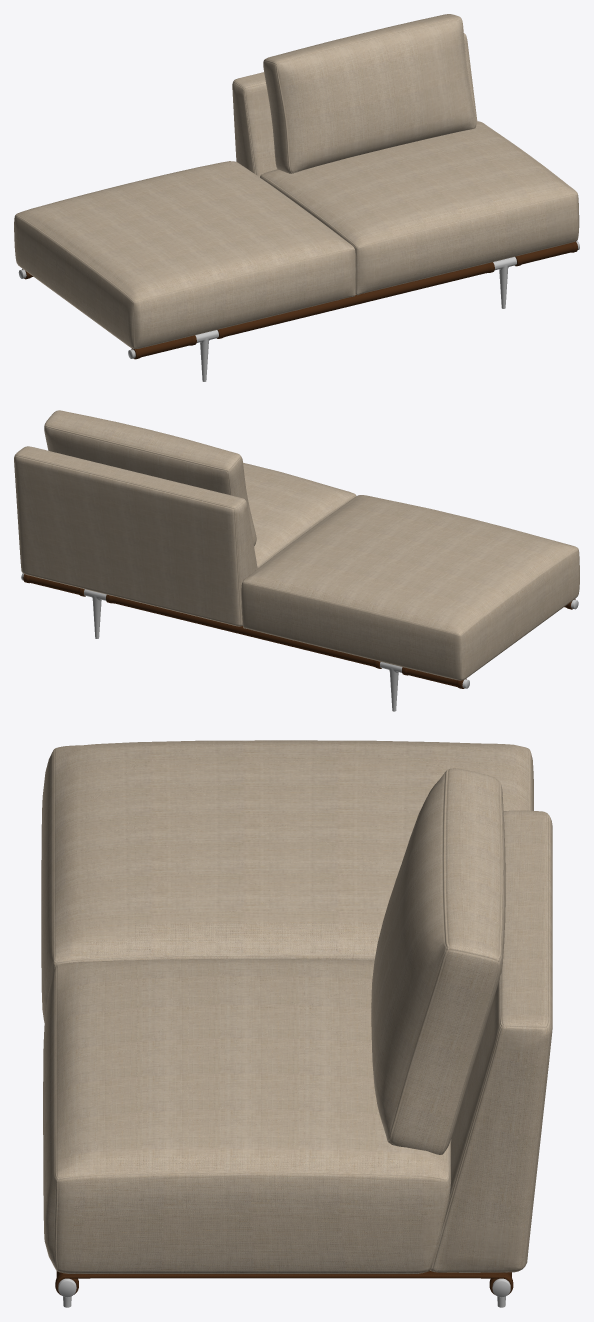
The model's file is SK_MILOS_0_ARMY_THREE_SEATS_SECTIONAL-0cc8d768.glb.
3 renders of one model, top to bottom at view 1: azimuth 30°, elevation 25°; view 2: azimuth 150°, elevation 25°; view 3: azimuth 270°, elevation 25°, orthographic. The views are drawn at different scales.
Parts seen in each view (by area): view 1: puff modulo, assento mod, almofada_milos_b, base modulo, costas modul, base metal m; view 2: puff modulo, costas modul, almofada_milos_b, assento mod, base modulo, base metal m; view 3: assento mod, puff modulo, almofada_milos_b, costas modul, base modulo, base metal m.
Part boxes in pixels (left/top/right/bottom): puff modulo: left=14, top=161, right=355, bottom=349; assento mod: left=260, top=121, right=579, bottom=295; almofada_milos_b: left=263, top=14, right=476, bottom=173; base modulo: left=22, top=241, right=577, bottom=359; costas modul: left=232, top=33, right=477, bottom=177; base metal m: left=18, top=241, right=579, bottom=381; puff modulo: left=241, top=495, right=579, bottom=680; costas modul: left=14, top=446, right=257, bottom=626; almofada_milos_b: left=44, top=410, right=256, bottom=546; assento mod: left=243, top=462, right=356, bottom=568; base modulo: left=23, top=574, right=575, bottom=688; base metal m: left=21, top=573, right=578, bottom=711; assento mod: left=43, top=959, right=451, bottom=1273; puff modulo: left=41, top=740, right=533, bottom=1022; almofada_milos_b: left=371, top=768, right=505, bottom=1154; costas modul: left=430, top=810, right=552, bottom=1272; base modulo: left=55, top=1270, right=513, bottom=1295; base metal m: left=58, top=1278, right=510, bottom=1307.
Bounding box in the file's own units: 1.93 × 0.8571 × 0.9555.
Materials: 4 (2 with a texture image).
